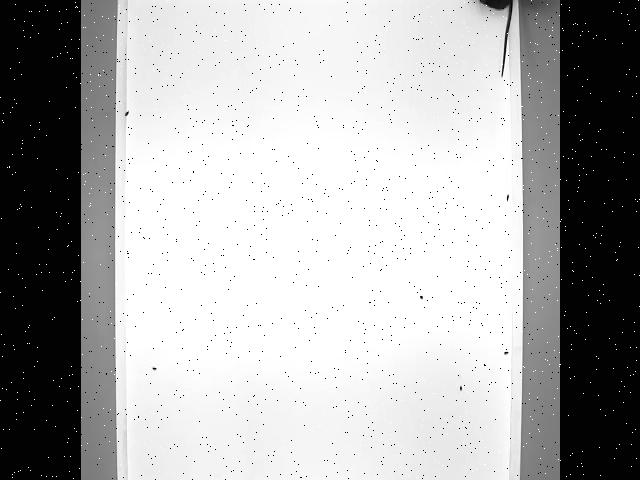Tikus: (472, 0, 515, 76)
